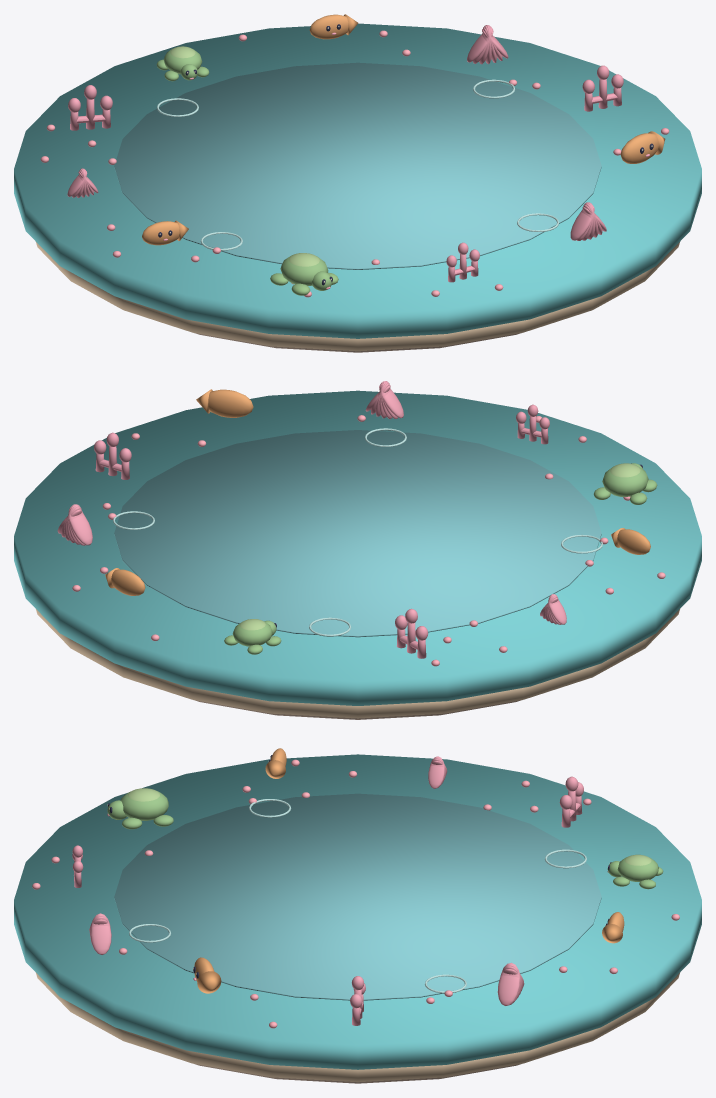
Rendered from world.glb.
3 renders of one model, top to bottom at view 1: azimuth 30°, elevation 25°; view 2: azimuth 150°, elevation 25°; view 3: azimuth 270°, elevation 25°, orthographic.
Visible parts, largest first — view 1: Cone, Cone.003, Cone.001, turtle.002, turtle.001, coral.002, coral.001, fish.003, shell.001, fish.001, shell.003, fish.002 (+3 smaller); view 2: Cone, Cone.003, Cone.001, turtle.002, turtle.001, fish.003, coral.002, coral.001, shell.001, shell.003, coral.003, fish.001 (+3 smaller); view 3: Cone, Cone.003, Cone.001, turtle.002, turtle.001, shell.001, coral.002, shell.003, fish.003, Cone.002, coral.001, fish.001.
Boxes of the visible parts, <box> form: Cone: <box>14,23,701,338</box>; Cone.003: <box>114,62,601,269</box>; Cone.001: <box>36,242,679,351</box>; turtle.002: <box>270,253,338,295</box>; turtle.001: <box>156,46,209,81</box>; coral.002: <box>68,85,112,130</box>; coral.001: <box>582,65,623,111</box>; fish.003: <box>620,131,665,163</box>; shell.001: <box>467,25,508,64</box>; fish.001: <box>309,14,358,39</box>; shell.003: <box>570,202,606,240</box>; fish.002: <box>142,220,188,245</box>; Cone: <box>14,390,701,705</box>; Cone.003: <box>114,430,601,637</box>; Cone.001: <box>36,609,679,718</box>; turtle.002: <box>593,463,657,504</box>; turtle.001: <box>224,619,281,654</box>; fish.003: <box>196,389,253,417</box>; coral.002: <box>395,608,428,658</box>; coral.001: <box>94,432,131,479</box>; shell.001: <box>57,504,92,545</box>; shell.003: <box>365,381,403,418</box>; coral.003: <box>516,404,549,444</box>; fish.001: <box>105,568,145,595</box>; Cone: <box>14,754,701,1069</box>; Cone.003: <box>114,793,601,1000</box>; Cone.001: <box>35,972,680,1082</box>; turtle.002: <box>107,788,173,829</box>; turtle.001: <box>607,854,663,889</box>; shell.001: <box>497,962,524,1005</box>; coral.002: <box>559,776,583,827</box>; shell.003: <box>89,913,111,954</box>; fish.003: <box>193,957,221,993</box>; Cone.002: <box>195,1064,520,1083</box>; coral.001: <box>350,976,365,1025</box>; fish.001: <box>602,912,624,943</box>.
Size of the model in its own units: 9.6 by 1.45 by 9.6.
